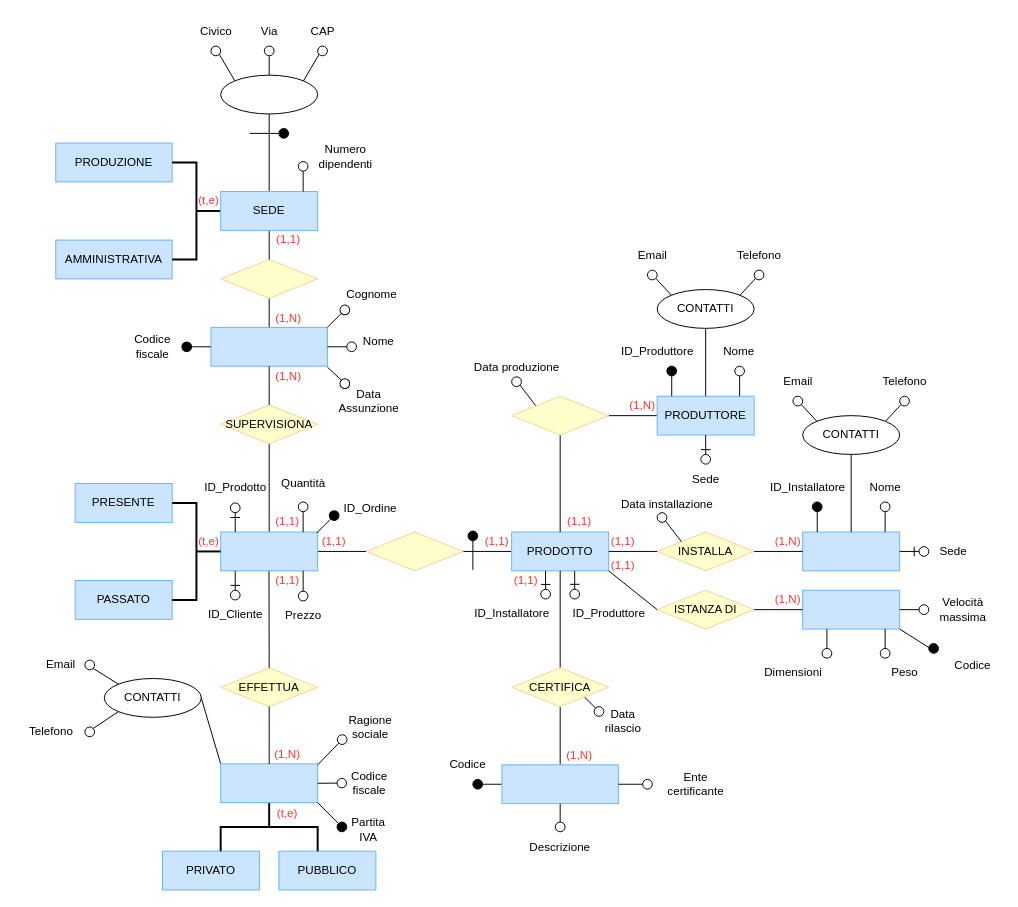
Image size: 1018x907. Some labels were removed from this diagram. The centre of each missing label's shape, as x and y in pixels:
AMMINISTRATORE: pixel 268 346
CERTIFICATO: pixel 559 784
CLIENTE: pixel 269 783
INCLUDE: pixel 414 551
INDIRIZZO: pixel 269 94
INSTALLATORE: pixel 851 551
LAVORA IN: pixel 269 278
MODELLO: pixel 851 609
ORDINE: pixel 269 551
PRODUCE: pixel 560 415
